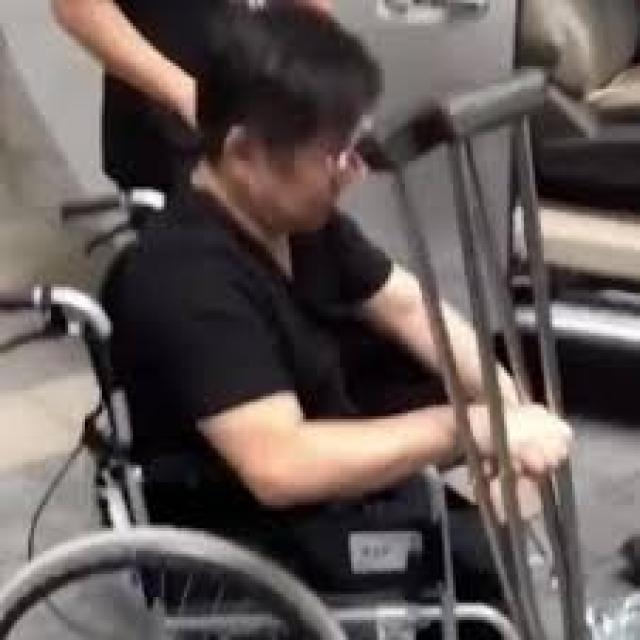wheelchairs: (3, 181, 558, 637)
